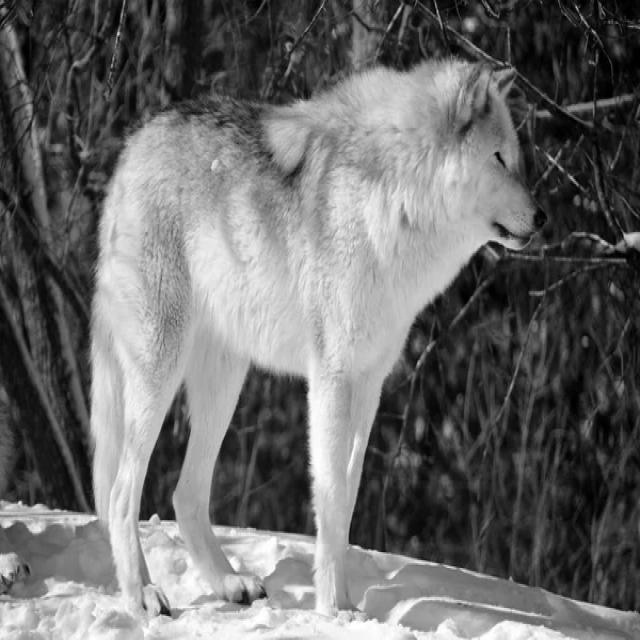Animal: (91, 59, 546, 618)
